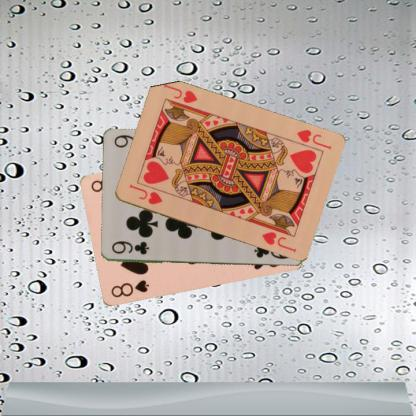8s: (108, 278, 150, 300)
9c: (109, 238, 150, 256)
Jh: (293, 127, 333, 151), (126, 182, 163, 206)
